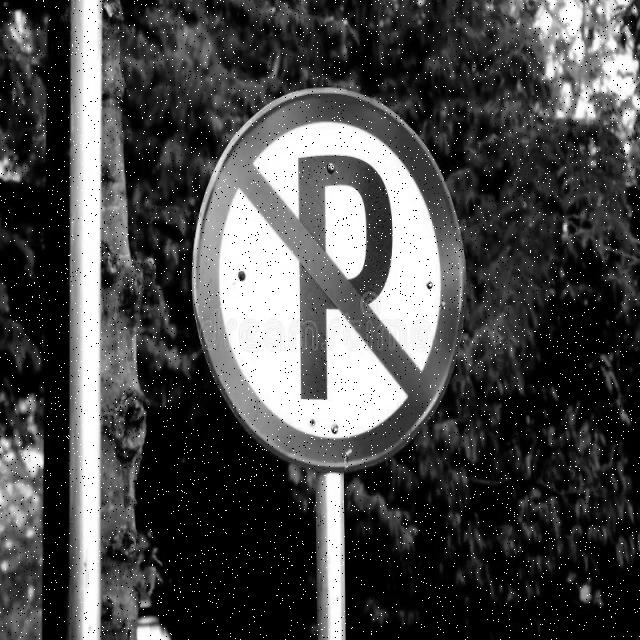No_parking: (193, 88, 476, 474)
